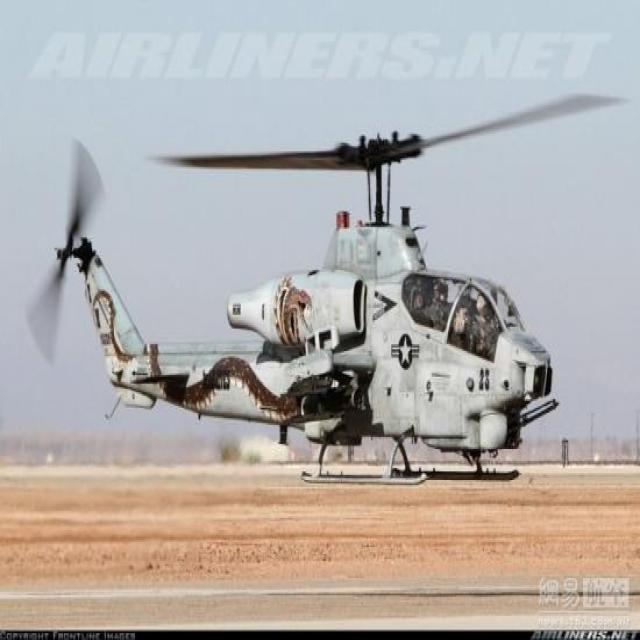MIL_HELO: (2, 65, 640, 502)
